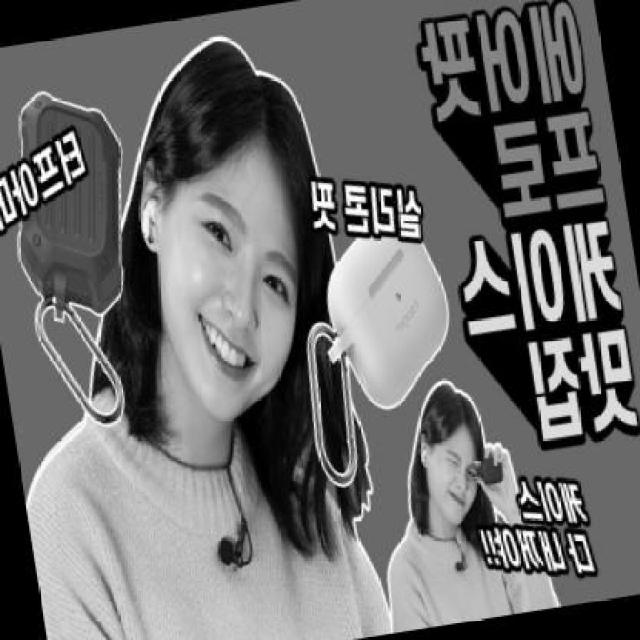earphone: (140, 187, 172, 246), (414, 447, 439, 470)
